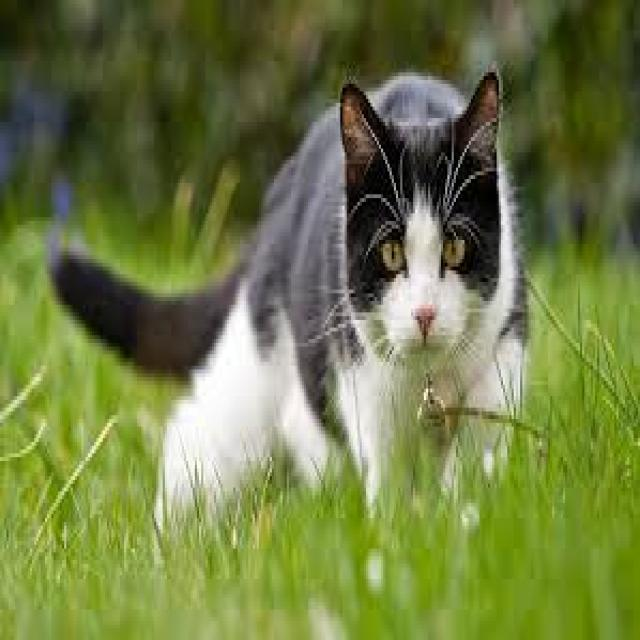CAT: (45, 61, 529, 552)
